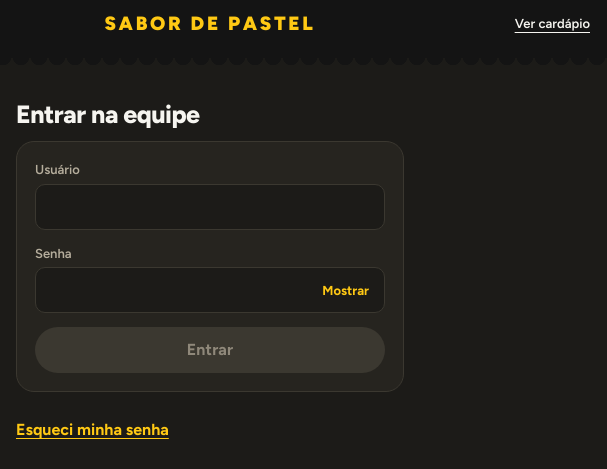
Test case: esqueci minha senha pede o usuário e mostra a mesma resposta sempre
Click the button "Esqueci minha senha" at point(92, 430), box [16,408,169,452]
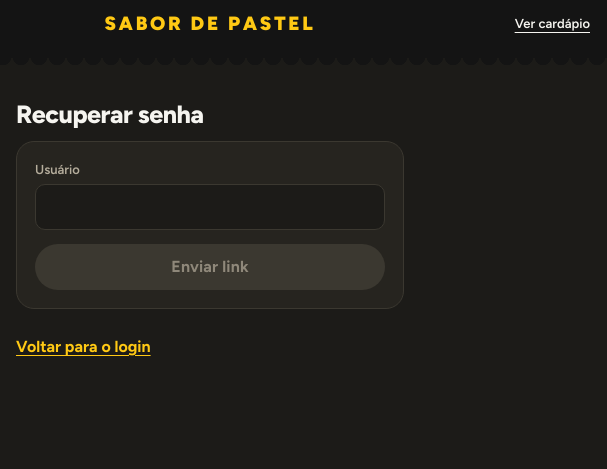
Type "joao" into the field labelled "Usuário" at point(210, 207), box [35,184,385,230]
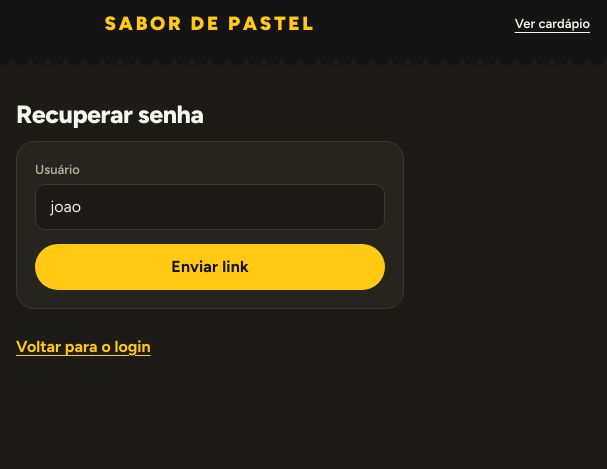
Click the button "Enviar link" at point(210, 267), box [35,244,385,290]
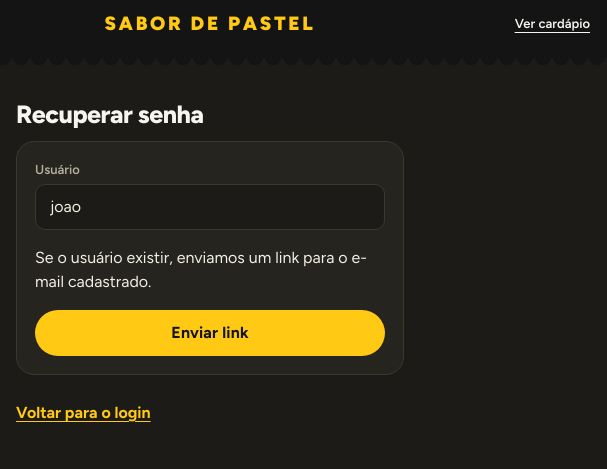
Expected: the text "Se o usuário existir, enviamos um link para o e-mail cadastrado." is shown, [35,246,385,294]
